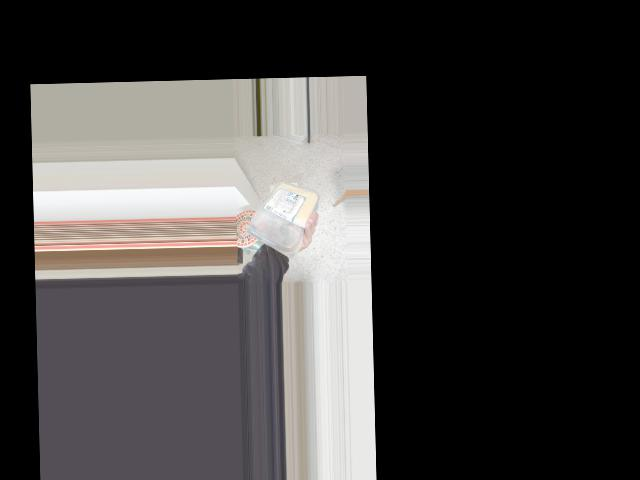cheese: (244, 174, 312, 250)
